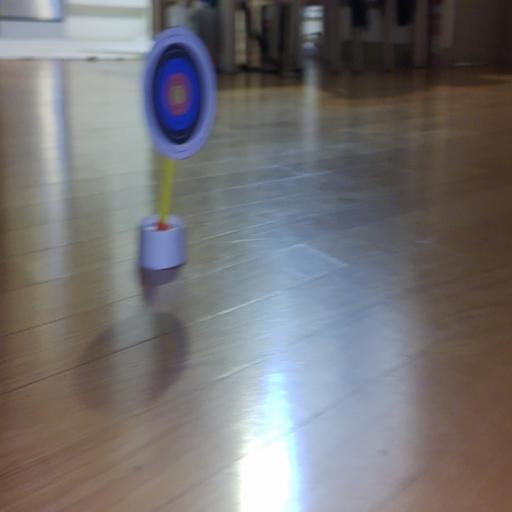target: (143, 27, 216, 159)
